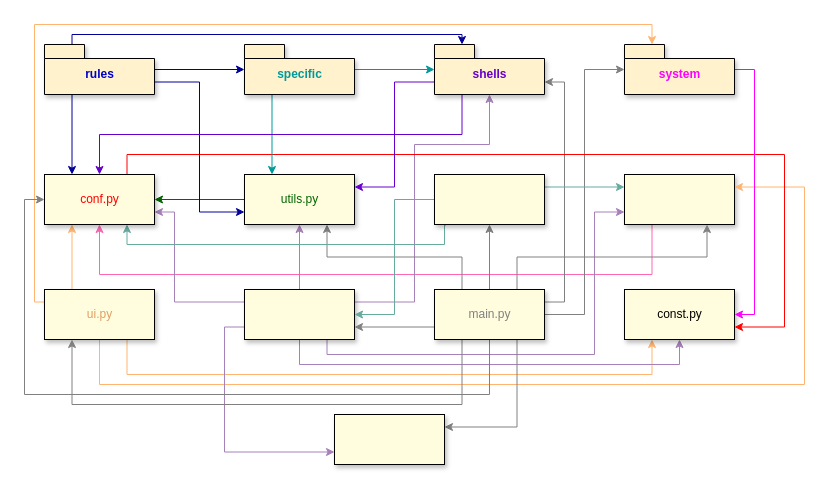
Image size: 830x489. Some labels were removed from this diagram. The centre of each missing label's shape, as x and y in pixels:
corrector.py: (490,201)
exceptions.py: (390,441)
logs.py: (680,201)
types.py: (300,315)
